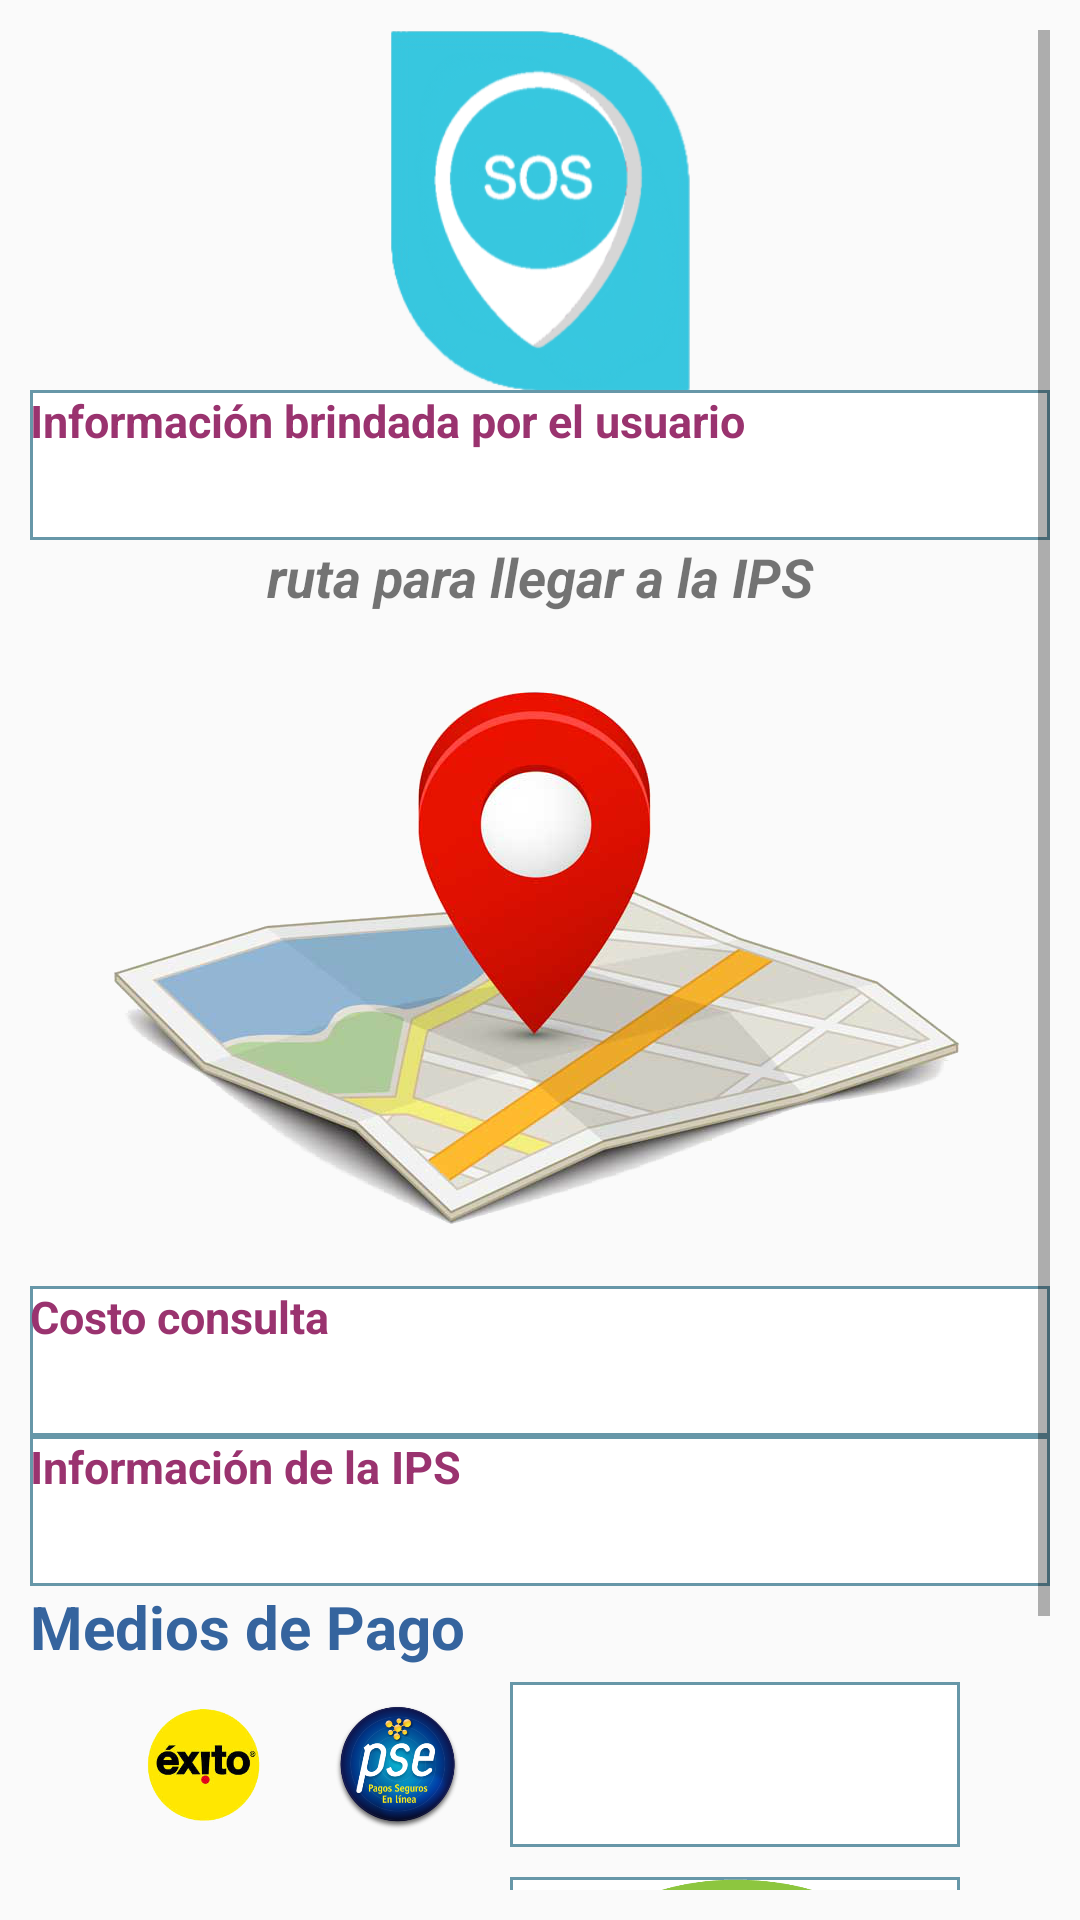

Locate icon controls on the screen. Image size 1080×1920, boxes as (x1, y1, x2, y2).
Mis Urgencias: (391, 31, 690, 390)
